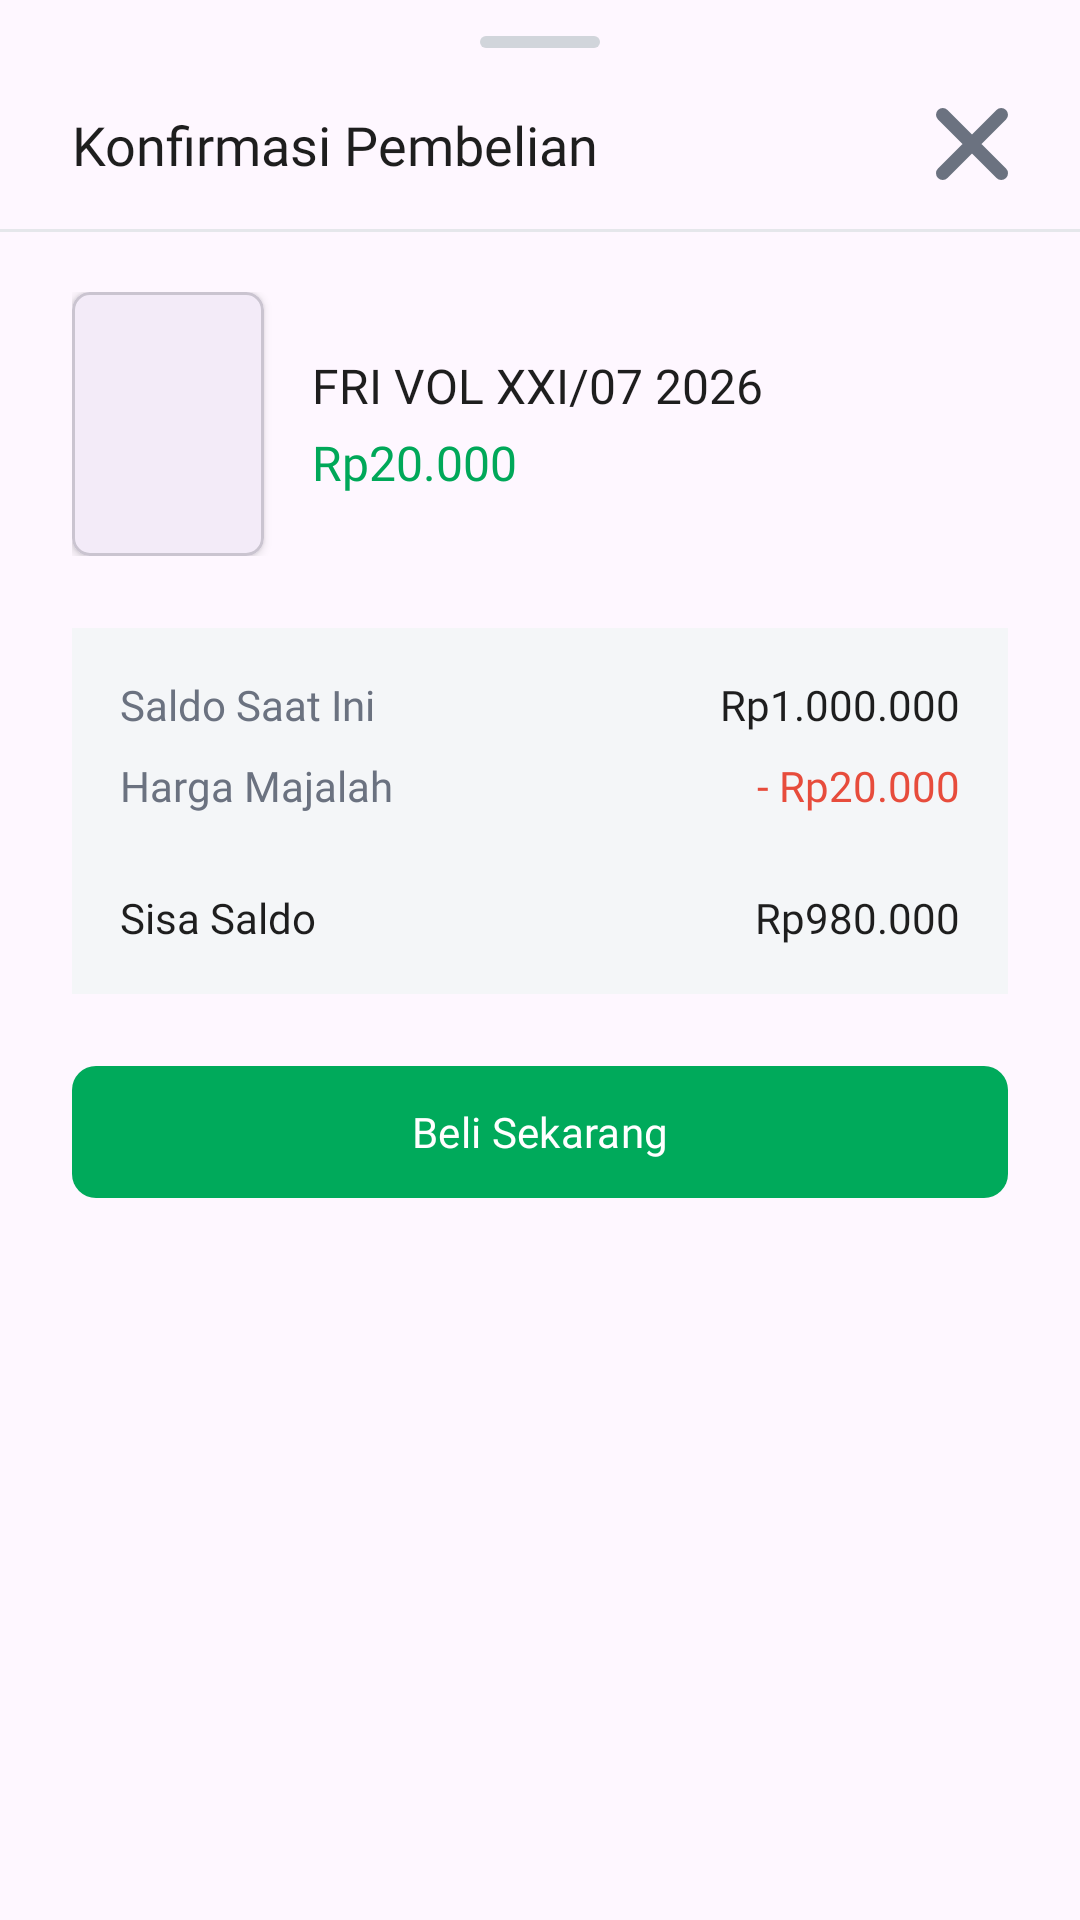

Locate icon controls on the screen. Image size 1080 x 1920, boxes as bbox=(x1, y1, x2, y2).
close: bbox=(936, 108, 1008, 180)
